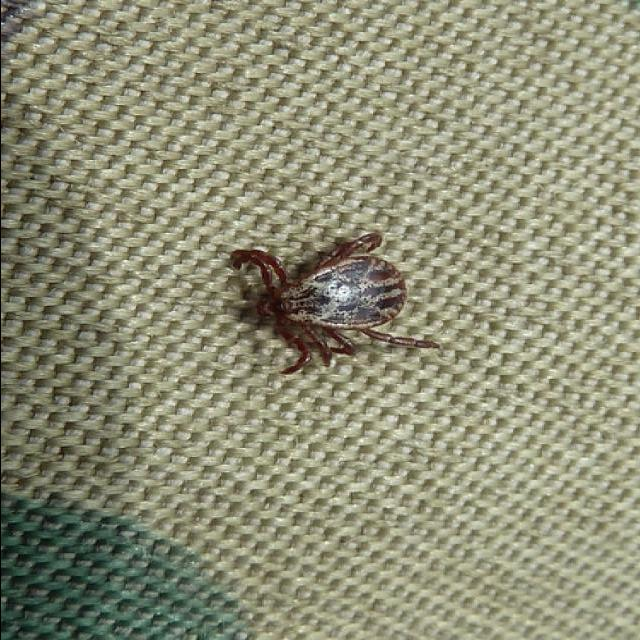Dermacentor Reticulatus-M: (230, 233, 439, 376)
